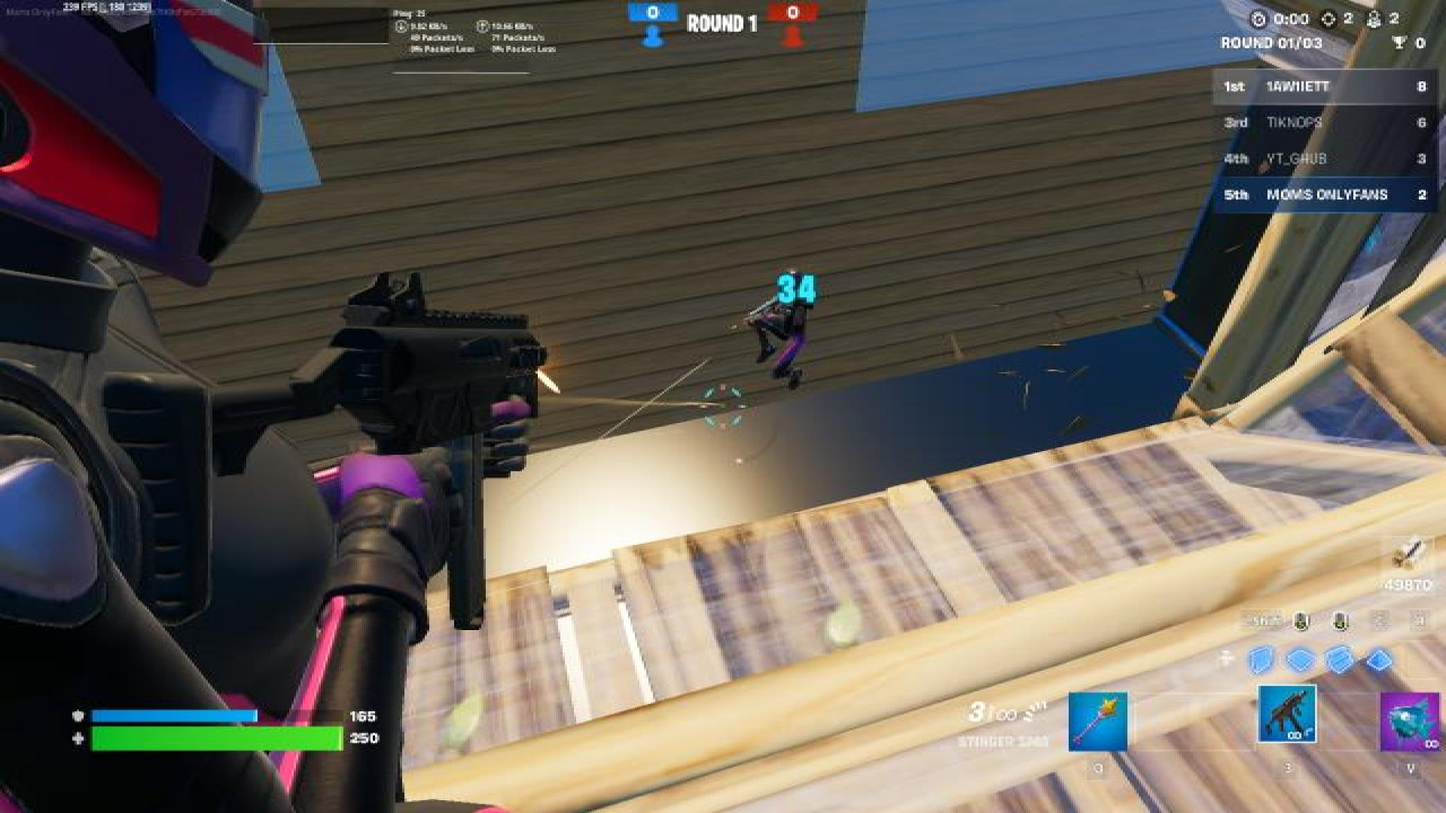player: (744, 271, 846, 389)
